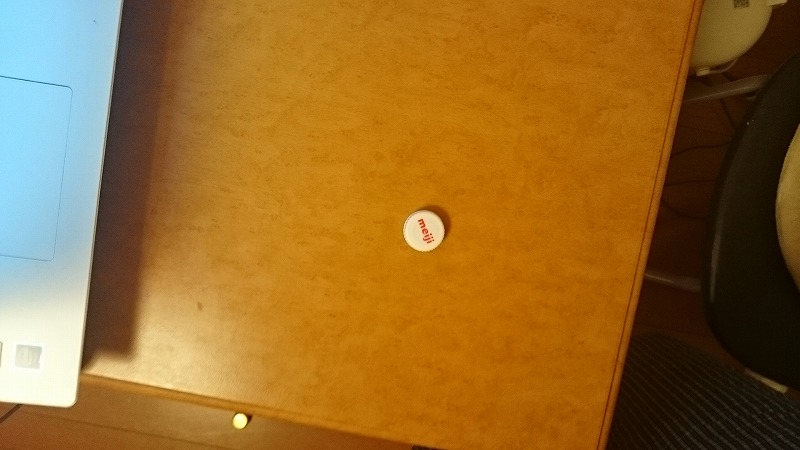B: (402, 206, 447, 257)
